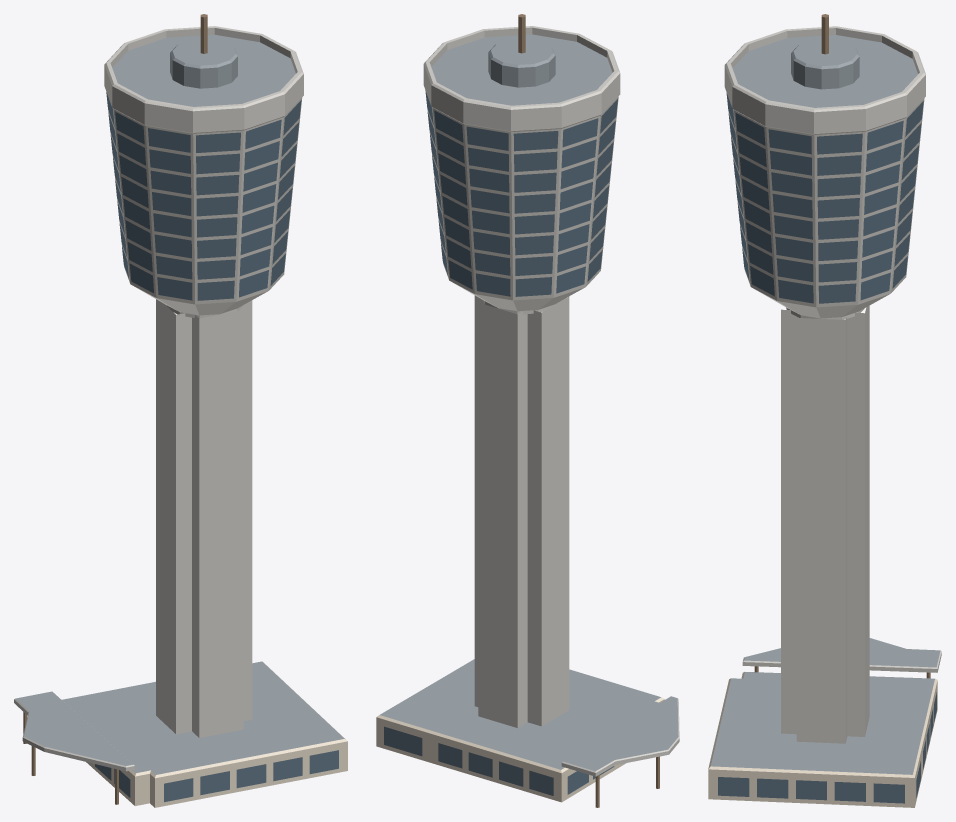
Rendered from niagara-tower-hotel.glb.
3 views of the same model, side by side, from view 1: azimuth 30°, elevation 25°; view 2: azimuth 150°, elevation 25°; view 3: azimuth 270°, elevation 25° (orthographic). The views are drawn at different scales.
Parts seen in each view (by area): view 1: The Tower Hotel; view 2: The Tower Hotel; view 3: The Tower Hotel.
Part boxes in pixels (<box>): The Tower Hotel: <box>14,14,347,807</box>; The Tower Hotel: <box>376,14,679,807</box>; The Tower Hotel: <box>708,14,941,807</box>.
Bounding box in the file's own units: 40.81 × 106 × 30.42.
